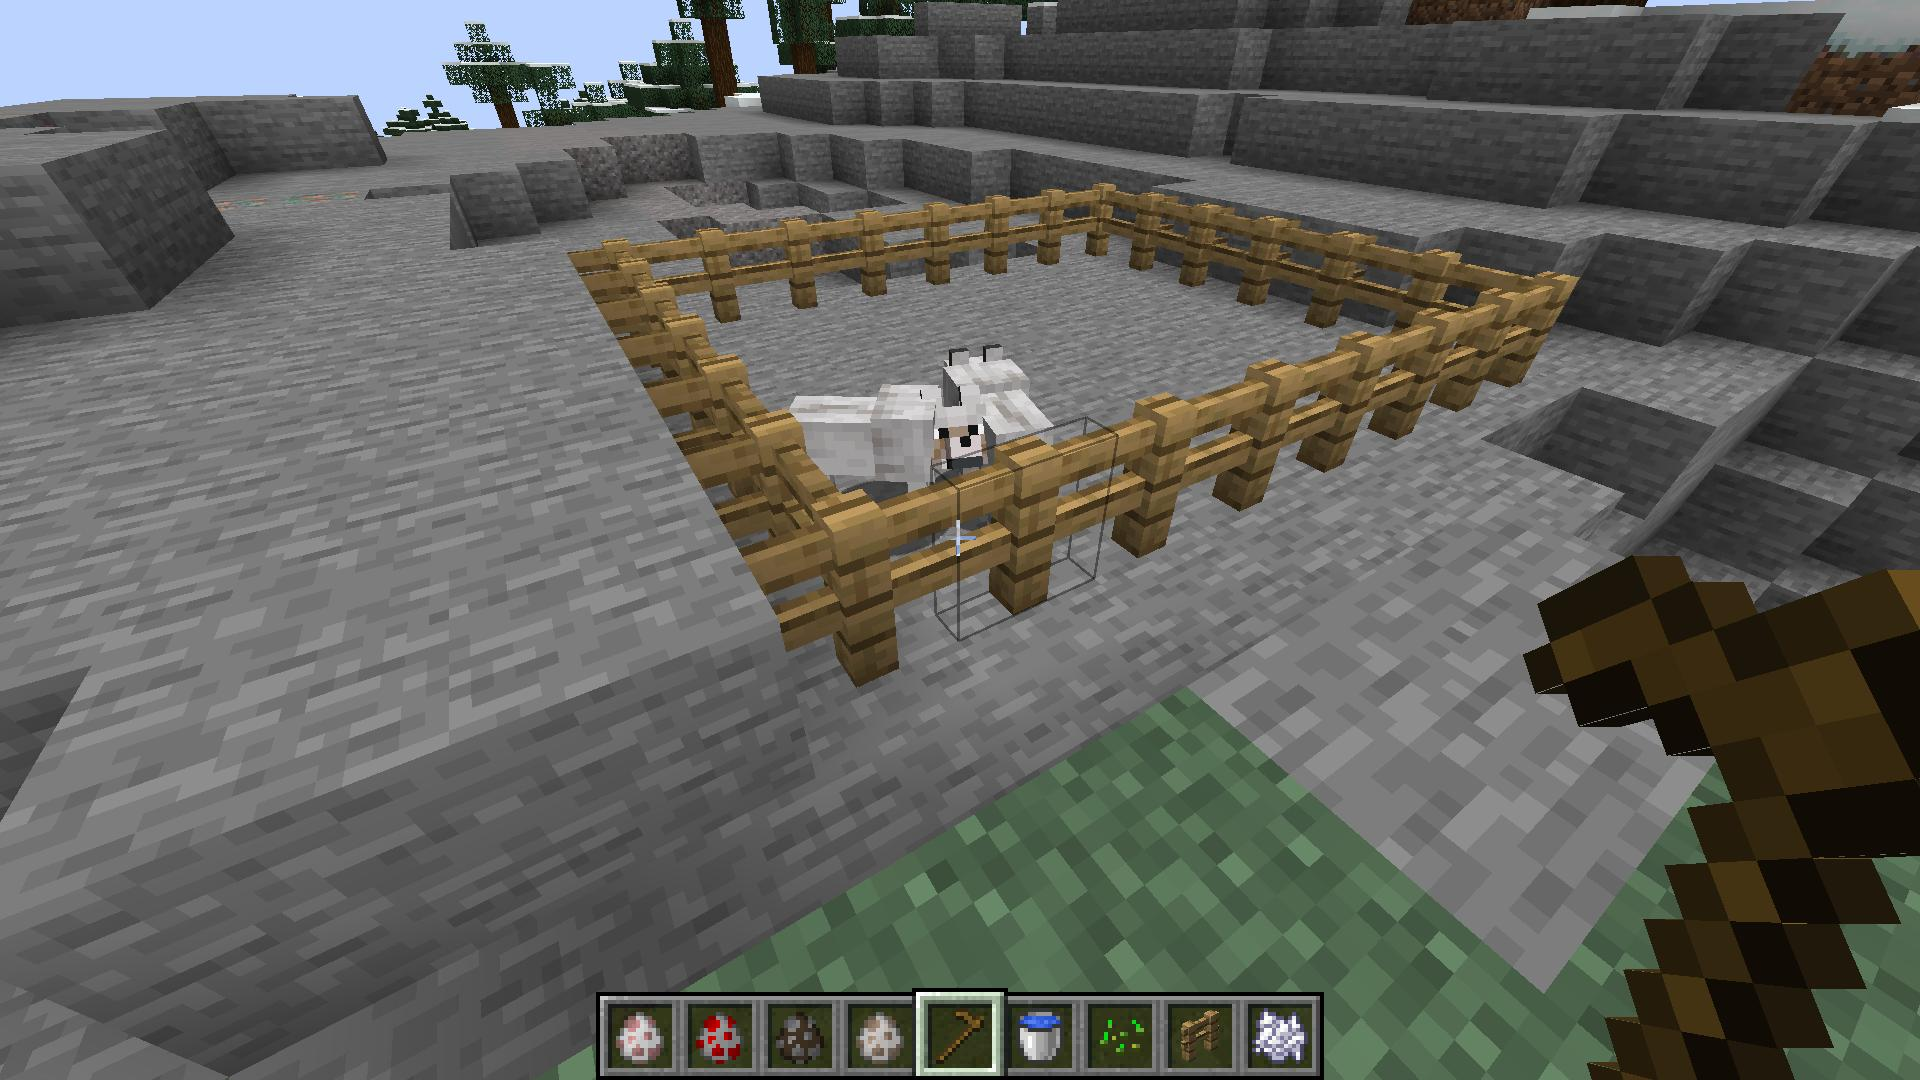wolf: (789, 382, 989, 492)
